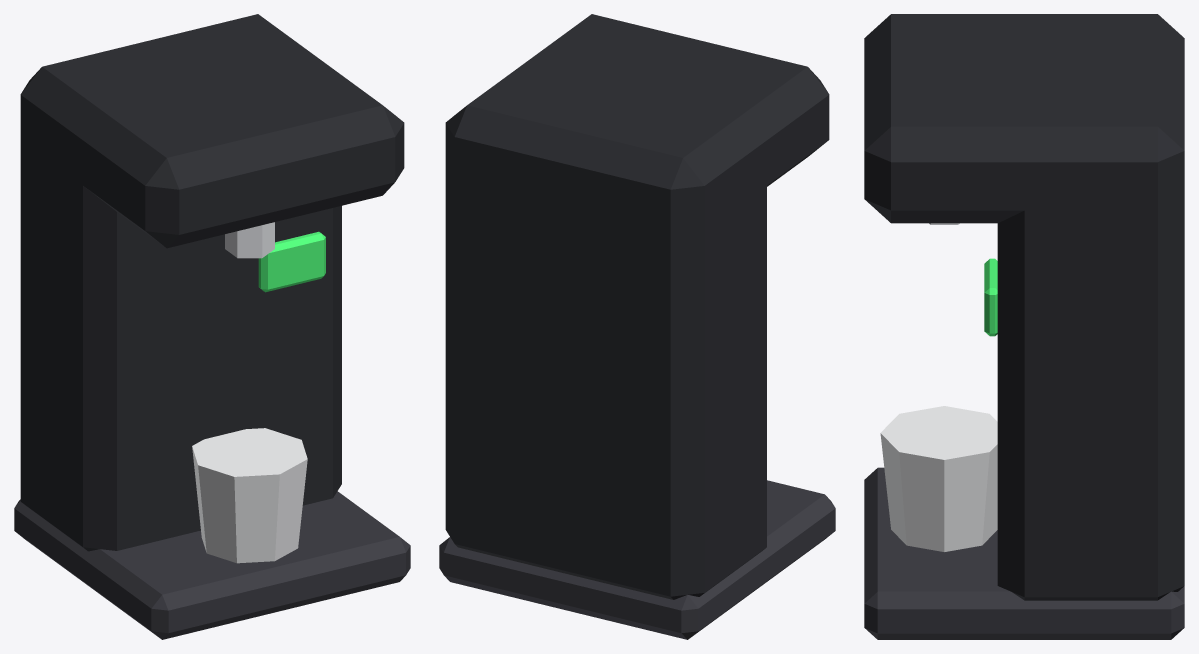
Rendered from CoffeeMachine.fbx.
The picture shows the model from 3 angles, left to right: view 1: azimuth 30°, elevation 25°; view 2: azimuth 150°, elevation 25°; view 3: azimuth 270°, elevation 25°; orthographic projection. The views are drawn at different scales.
Visible parts, largest first — view 1: CoffeeMachine; view 2: CoffeeMachine; view 3: CoffeeMachine.
Part boxes in pixels (<box>): CoffeeMachine: <box>14,14,410,639</box>; CoffeeMachine: <box>439,14,835,639</box>; CoffeeMachine: <box>864,14,1184,639</box>.
Size of the model in its own units: 1.2 by 2.1 by 1.2.
1 material, 1 textured.
